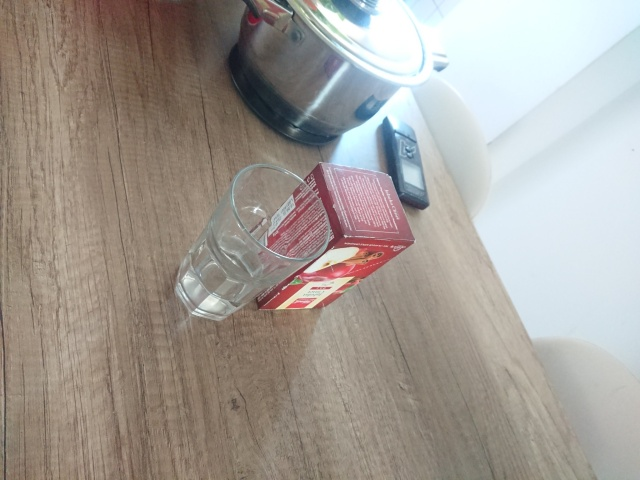Franck Apple Cinnamon Tea 60g: (241, 159, 417, 311)
